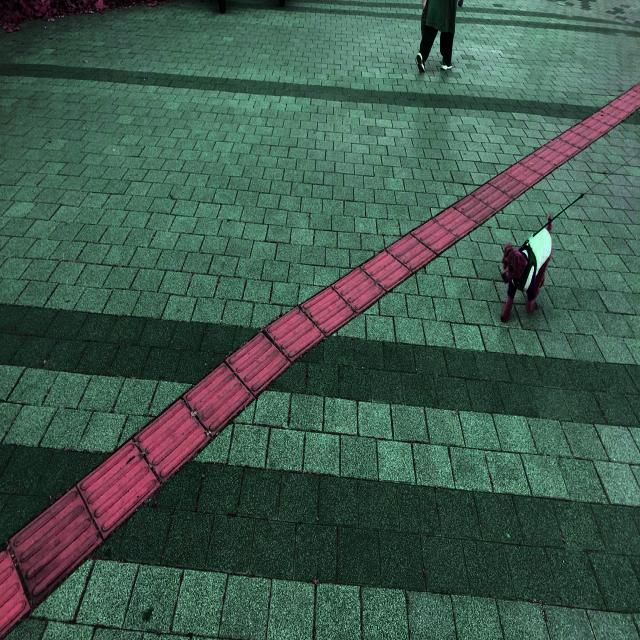Dog: (499, 212, 554, 324)
